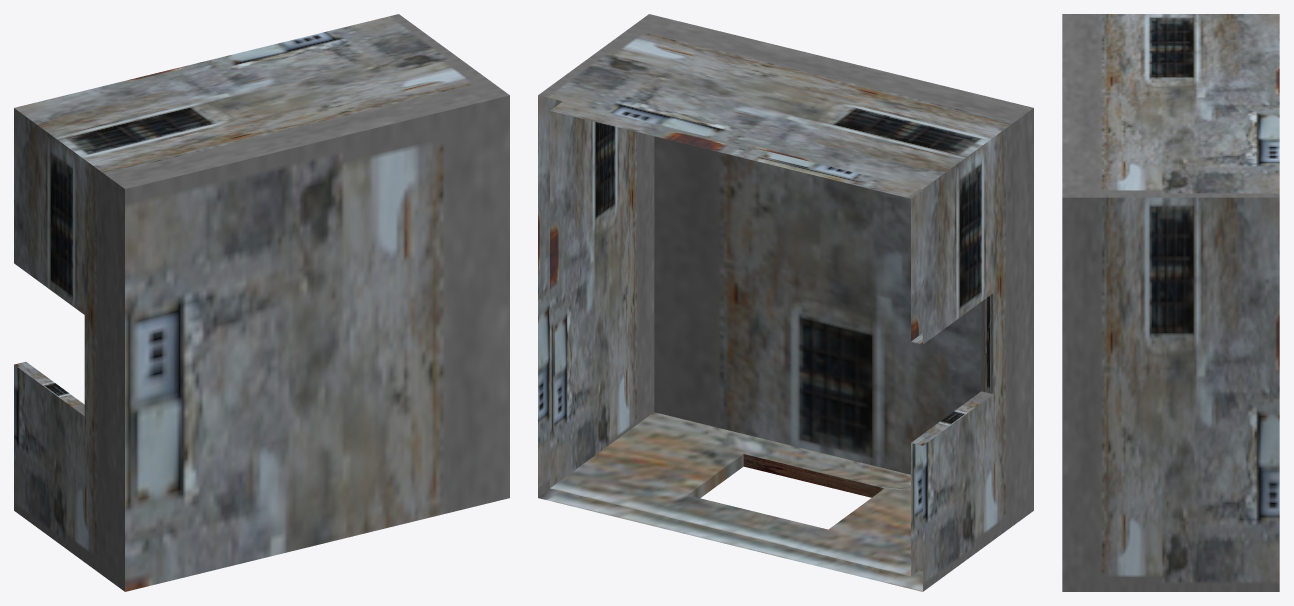
The model's file is 4x4W_Swindow_wtf.obj.
3 views of the same model, side by side, from view 1: azimuth 30°, elevation 25°; view 2: azimuth 150°, elevation 25°; view 3: azimuth 270°, elevation 25° (orthographic). The views are drawn at different scales.
Visible parts, largest first — view 1: group2; view 2: group2; view 3: group2.
Boxes of the visible parts, x1,y1,x2,y2 form: group2: [14, 14, 509, 591]; group2: [538, 14, 1033, 591]; group2: [1062, 14, 1279, 591].
Bounding box in the file's own units: 660 × 660 × 330.
